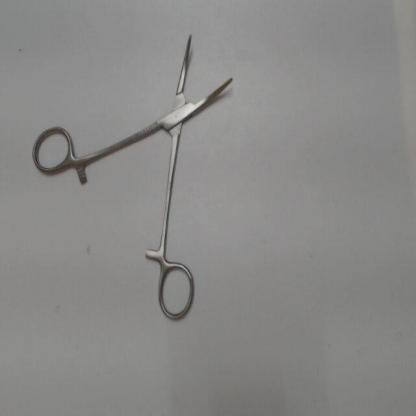Crile Artery Forceps: (29, 27, 239, 328)
